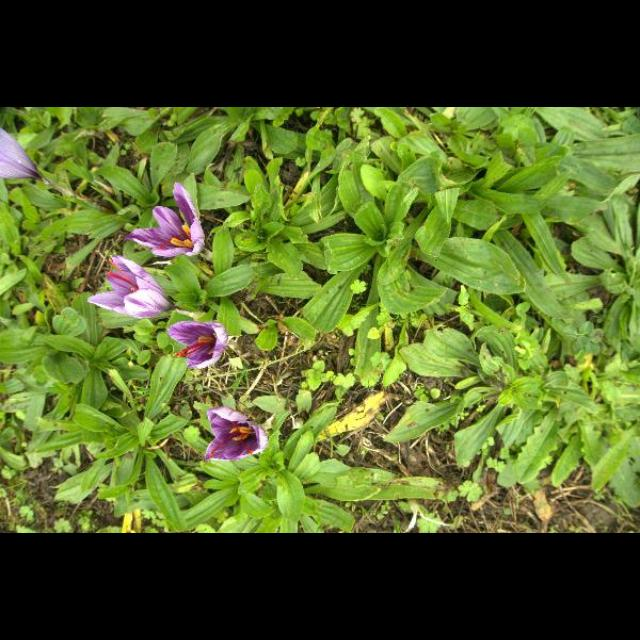flower: (123, 183, 203, 259), (90, 258, 180, 320), (201, 408, 269, 464), (166, 320, 232, 370), (0, 126, 40, 184)
